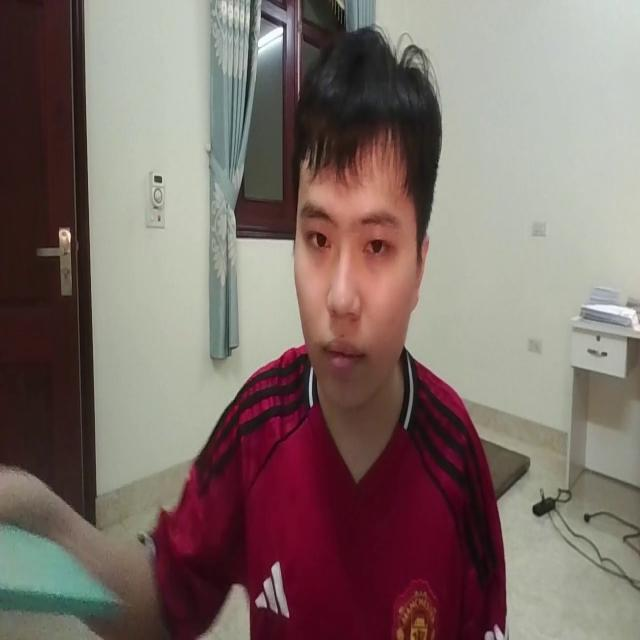book: (0, 508, 123, 635)
student: (1, 21, 511, 640)
